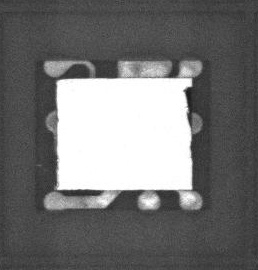DIE_BROKEN: (181, 85, 192, 162)
